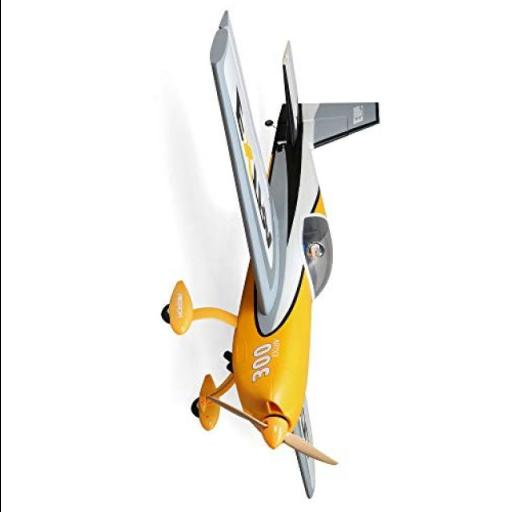uav: (141, 9, 383, 503)
